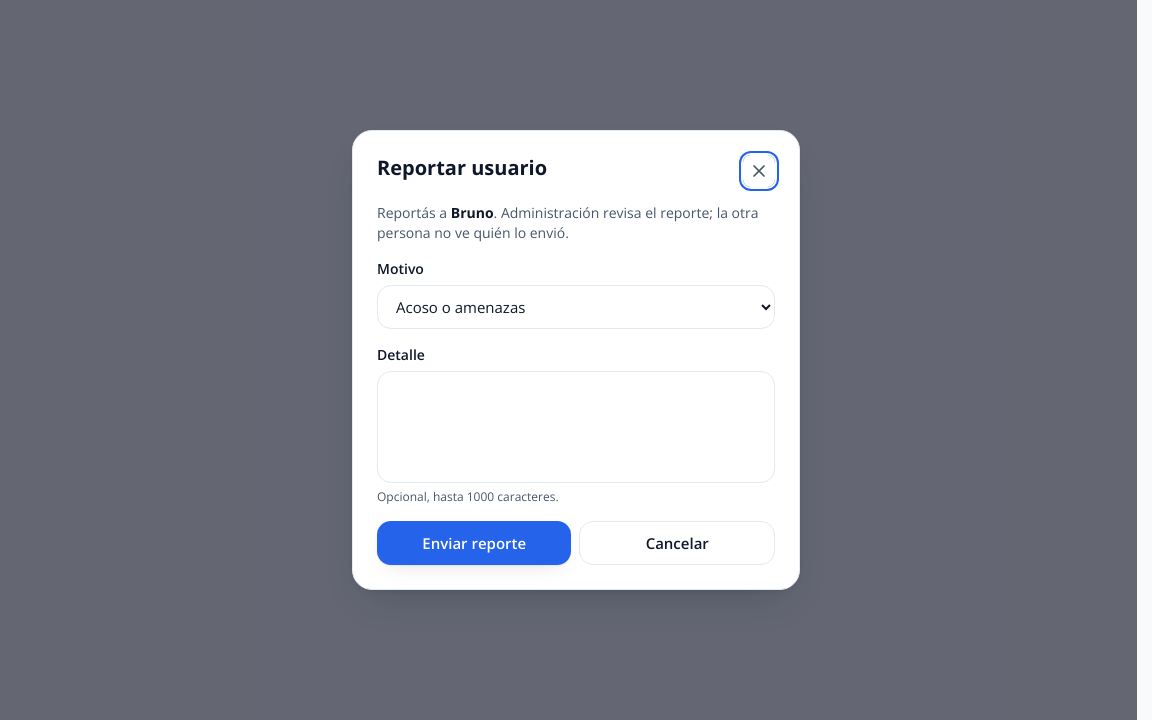
it: ReportModal › explains a duplicate open report
Click the button "Enviar reporte" at (474, 543), box [377,521,571,565]
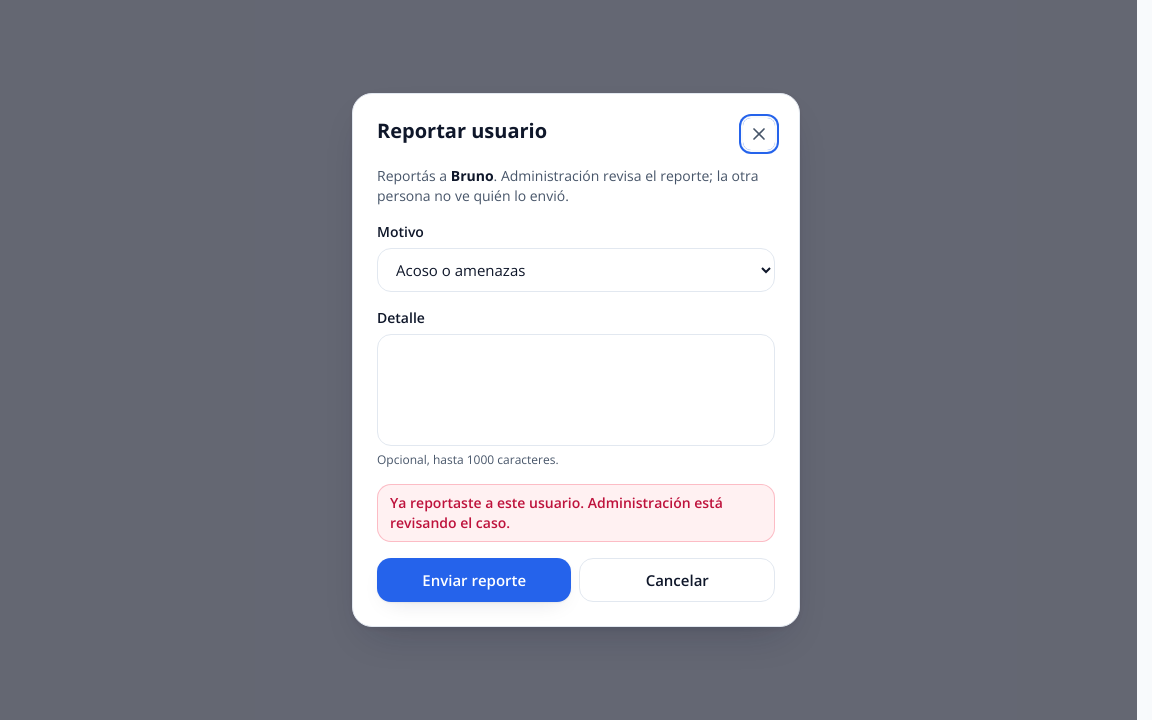
Now the text "Ya reportaste a este usuario. Administración está revisando el caso." is shown, box [377,484,775,542]
